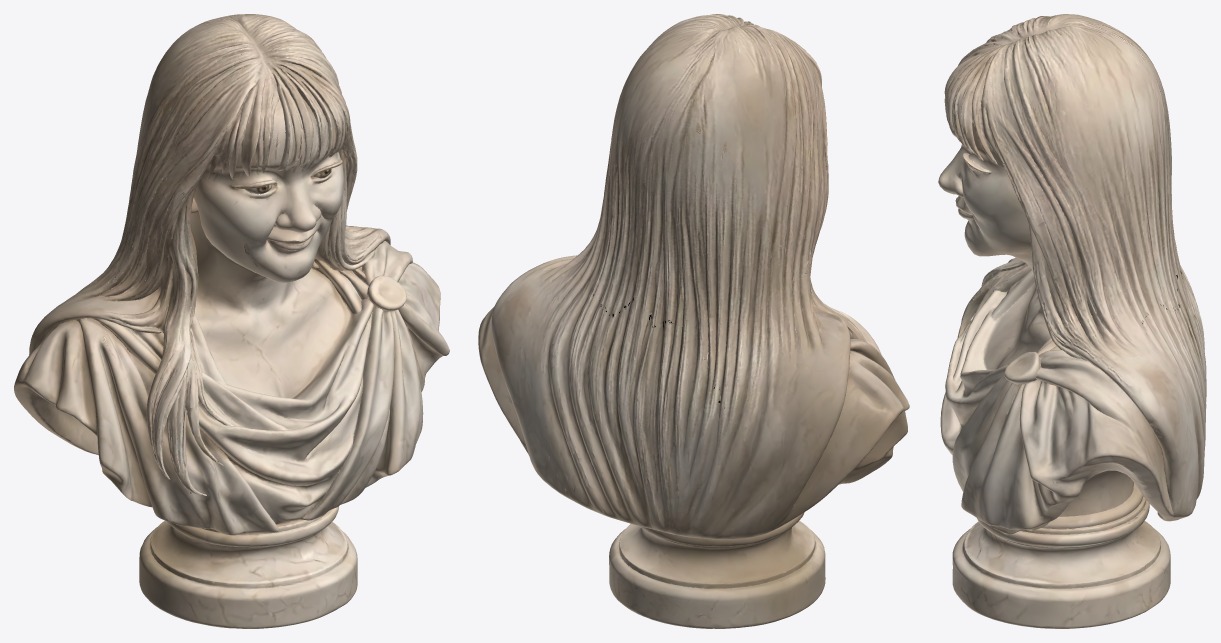
3 renders of one model, left to right at view 1: azimuth 30°, elevation 25°; view 2: azimuth 150°, elevation 25°; view 3: azimuth 270°, elevation 25°, orthographic.
Parts seen in each view (by area): view 1: model; view 2: model; view 3: model.
Part boxes in pixels (left/top/right/bottom): model: left=14, top=14, right=449, bottom=628; model: left=478, top=14, right=909, bottom=628; model: left=938, top=14, right=1206, bottom=628.
Size of the model in its own units: 1.46 by 1.9 by 0.826.
1 material, 1 textured.
